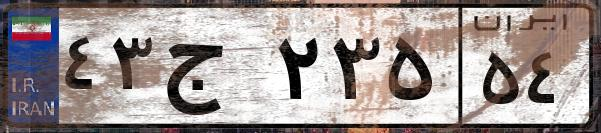2: (270, 28, 330, 110)
3: (330, 28, 385, 110), (110, 28, 158, 98)
4: (57, 26, 110, 100), (525, 38, 570, 115)
5: (385, 28, 445, 110), (475, 38, 525, 113)
ج: (158, 20, 270, 120)
